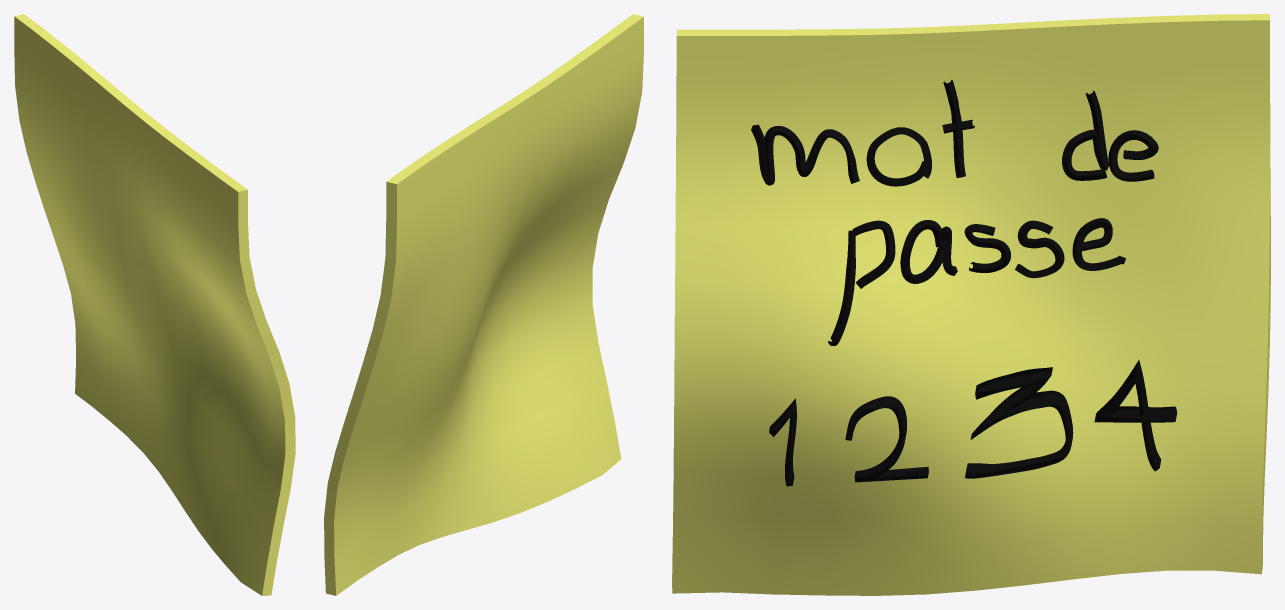
The model's file is 20260921_Post-It-MotdePasse_V001.fbx.
3 views of the same model, side by side, from view 1: azimuth 30°, elevation 25°; view 2: azimuth 150°, elevation 25°; view 3: azimuth 270°, elevation 25° (orthographic). The views are drawn at different scales.
Visible parts, largest first — view 1: Note.001; view 2: Note.001; view 3: Note.001, Password, Password1234.
Part boxes in pixels (x1=…): Note.001: x1=14, y1=14, x2=295, y2=595; Note.001: x1=324, y1=14, x2=643, y2=595; Note.001: x1=672, y1=14, x2=1270, y2=595; Password: x1=751, y1=80, x2=1158, y2=345; Password1234: x1=769, y1=359, x2=1177, y2=486.
Bounding box in the file's own units: 151 × 764 × 742.
